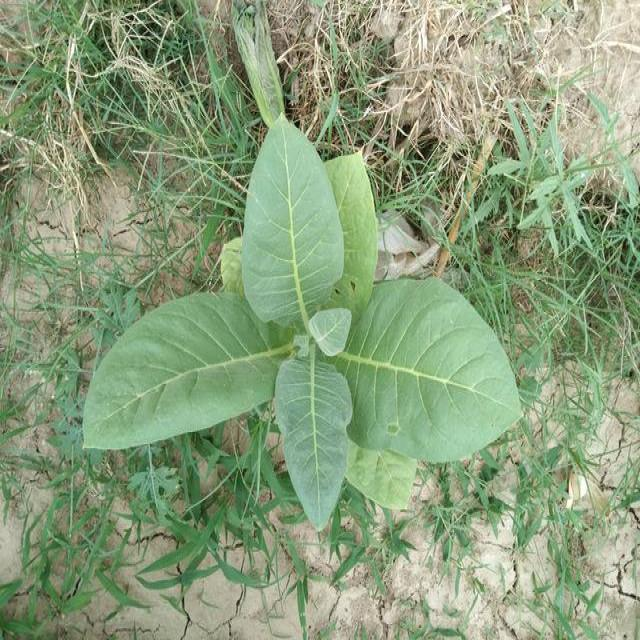crop: (75, 116, 529, 539)
